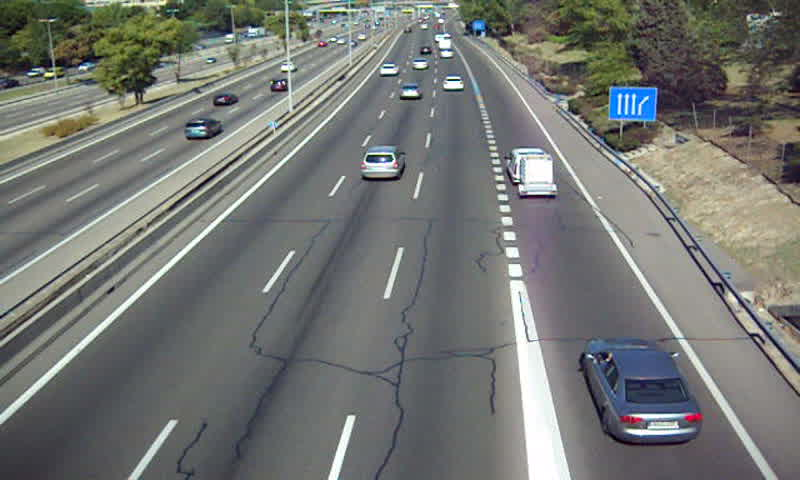car: (583, 338, 702, 443), (360, 146, 404, 181), (398, 84, 424, 100), (442, 76, 464, 92), (412, 57, 430, 72), (380, 62, 398, 77)
van: (506, 148, 547, 179)
